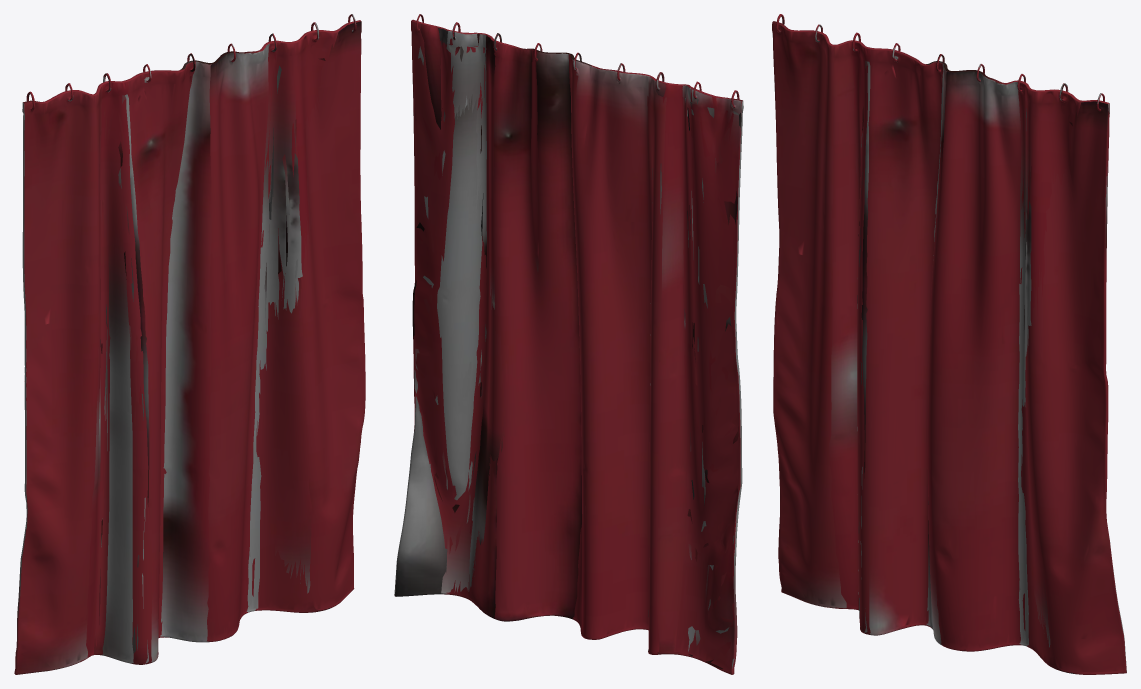
Rendered from rideau de douche-psychose.glb.
3 renders of one model, left to right at view 1: azimuth 30°, elevation 25°; view 2: azimuth 150°, elevation 25°; view 3: azimuth 330°, elevation 25°, orthographic.
Visible parts, largest first — view 1: node_0; view 2: node_0; view 3: node_0.
Boxes of the visible parts, x1,y1,x2,y2 form: node_0: (14, 14, 365, 674); node_0: (394, 14, 743, 674); node_0: (772, 14, 1126, 674).
Bounding box in the file's own units: 0.6245 × 1.02 × 0.0955.
1 material, 1 textured.
